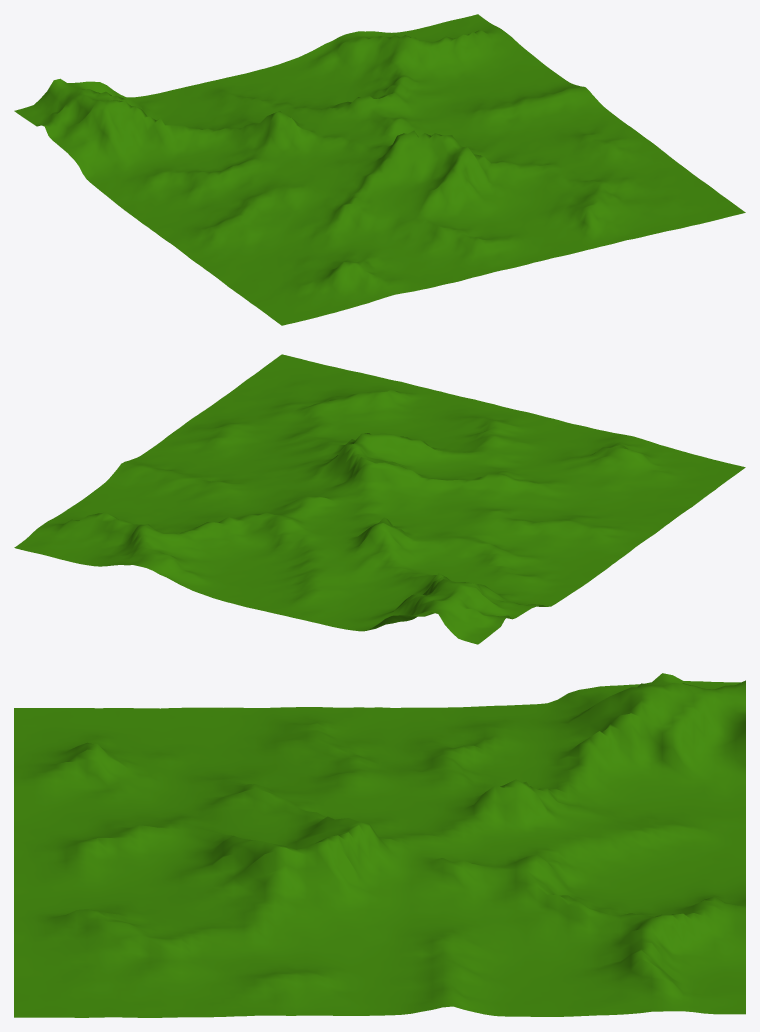
The model's file is terrain_mix_map_test.DAE.
The picture shows the model from 3 angles, top to bottom: view 1: azimuth 30°, elevation 25°; view 2: azimuth 150°, elevation 25°; view 3: azimuth 270°, elevation 25°; orthographic projection. The views are drawn at different scales.
Parts seen in each view (by area): view 1: Plane011; view 2: Plane011; view 3: Plane011.
Part boxes in pixels (x1,y1,x2,y2): Plane011: (14,14,745,325); Plane011: (14,354,745,644); Plane011: (14,673,745,1017).
Bounding box in the file's own units: 860 × 860 × 73.24.
